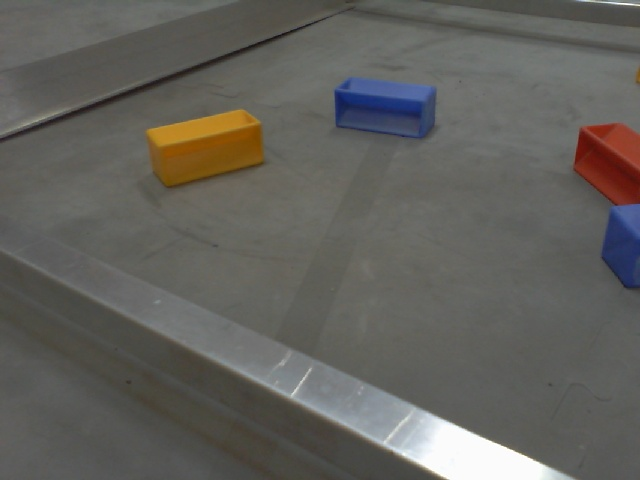BlueSample: (327, 75, 441, 141), (600, 197, 640, 293)
RedSample: (570, 119, 640, 207)
YellowSample: (145, 107, 267, 188)
